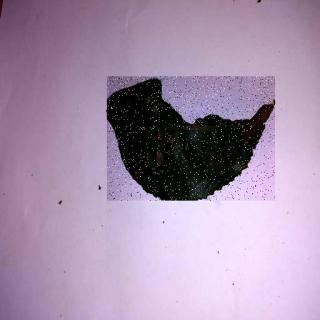Anthracnose: (108, 77, 276, 202)
